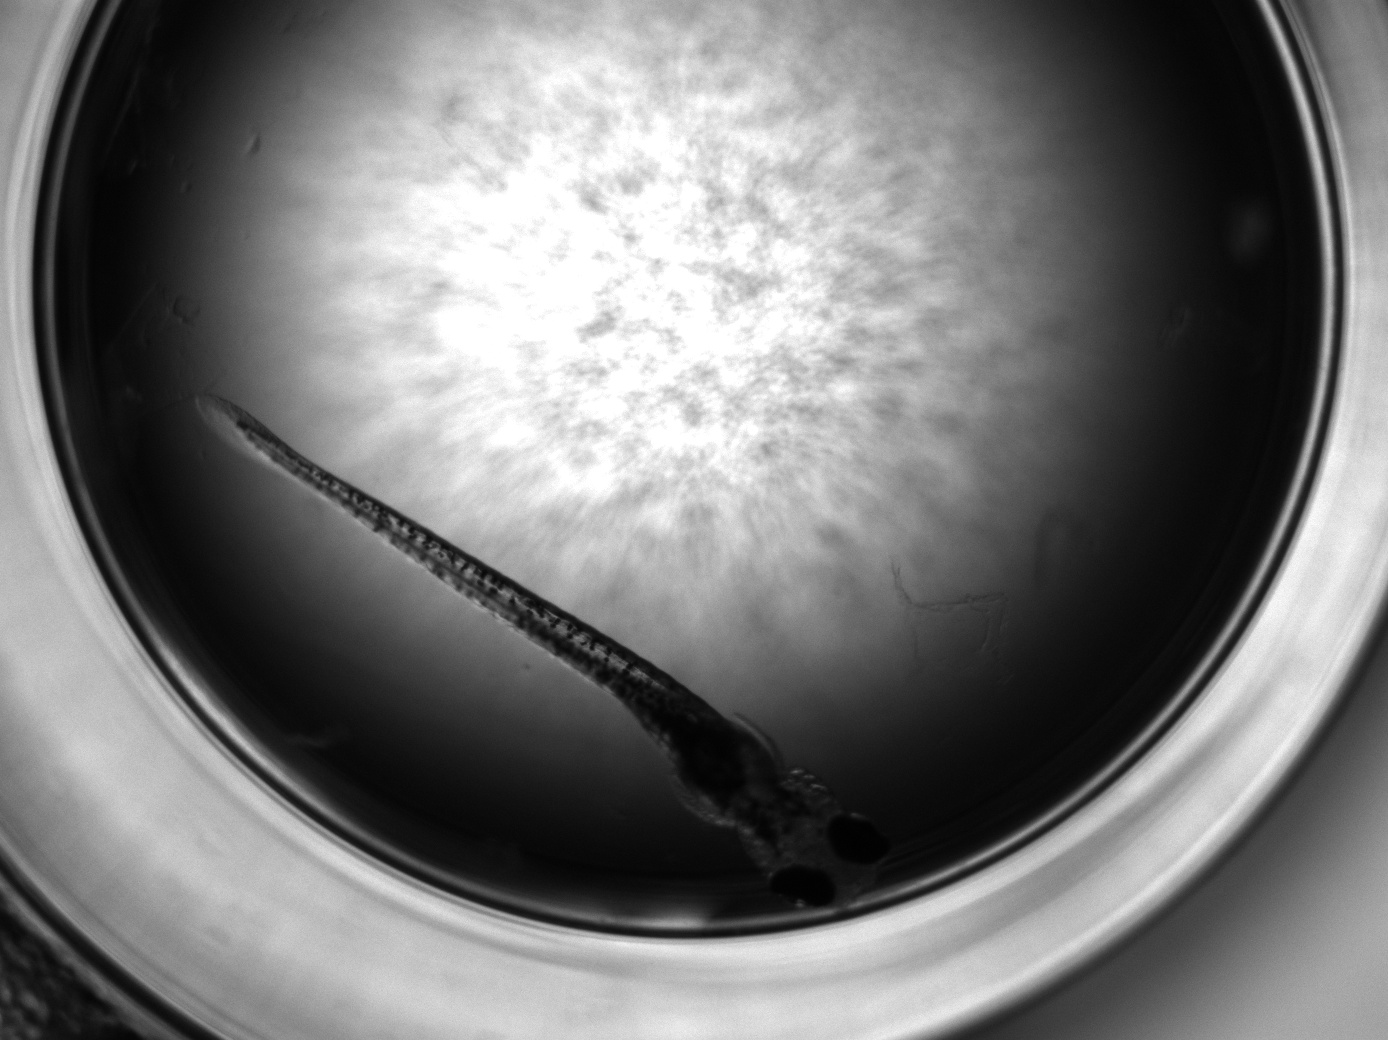embryo: (232, 413, 885, 915)
eye: (825, 809, 883, 866), (767, 864, 839, 910)
yolksac: (639, 672, 786, 831)
